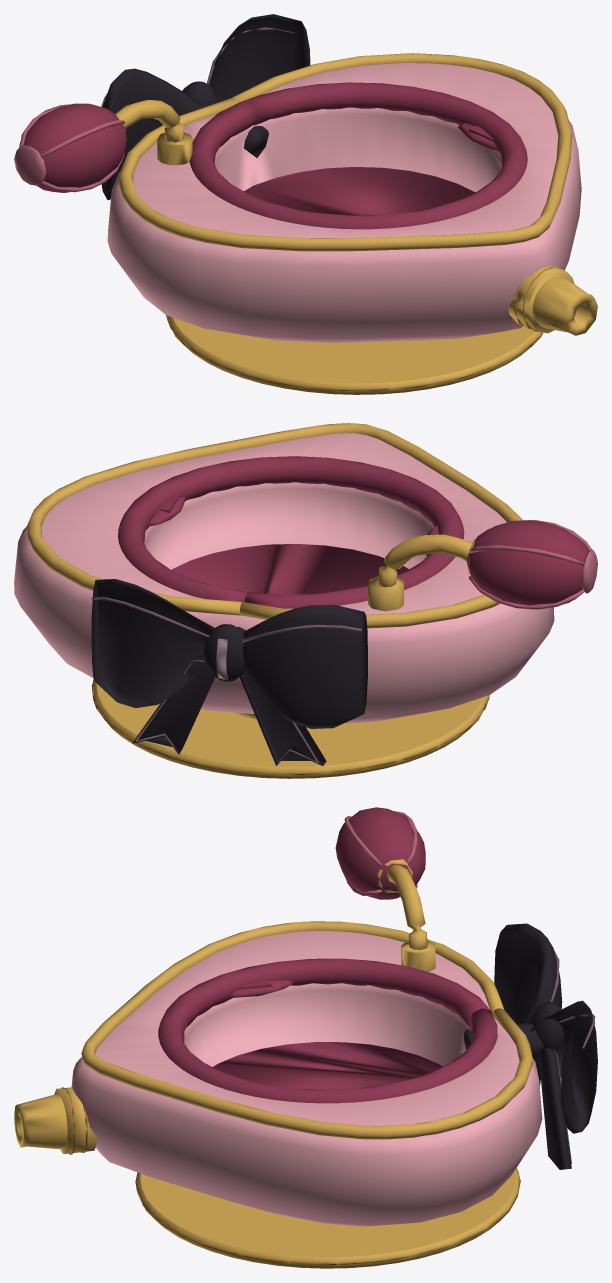
The model's file is kart.body.lovebomb.glb.
3 renders of one model, top to bottom at view 1: azimuth 30°, elevation 25°; view 2: azimuth 150°, elevation 25°; view 3: azimuth 270°, elevation 25°, orthographic. The views are drawn at different scales.
Parts seen in each view (by area): view 1: emi_vehicle_lovebomb; view 2: emi_vehicle_lovebomb; view 3: emi_vehicle_lovebomb.
Boxes of the visible parts, x1=… form: emi_vehicle_lovebomb: x1=14, y1=14, x2=597, y2=394; emi_vehicle_lovebomb: x1=14, y1=423, x2=597, y2=778; emi_vehicle_lovebomb: x1=14, y1=807, x2=597, y2=1268.
Size of the model in its own units: 0.5082 by 0.2249 by 0.48.
